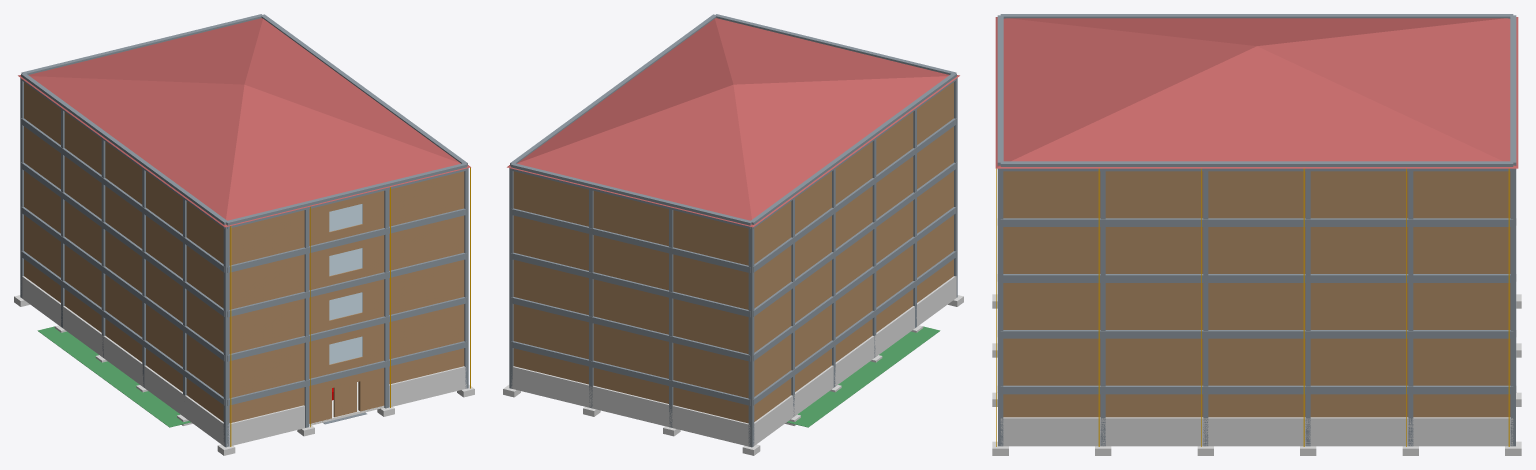
The model's file is generated_building_39.glb.
3 views of the same model, side by side, from view 1: azimuth 30°, elevation 25°; view 2: azimuth 150°, elevation 25°; view 3: azimuth 270°, elevation 25° (orthographic). The views are drawn at different scales.
Visible parts, largest first — view 1: architectural, structural, landscape, windows, electrical, doors; view 2: architectural, structural, landscape; view 3: architectural, structural, landscape, electrical.
Part boxes in pixels (x1,y1,x2,y2): architectural: (18, 18, 470, 423); structural: (14, 14, 474, 455); landscape: (21, 276, 466, 446); windows: (329, 204, 362, 364); electrical: (230, 167, 470, 446); doors: (333, 382, 356, 417); architectural: (507, 18, 959, 423); structural: (503, 14, 963, 455); landscape: (511, 276, 956, 446); architectural: (995, 17, 1518, 417); structural: (992, 14, 1521, 455); landscape: (1000, 417, 1513, 446); electrical: (996, 168, 1509, 446).
Size of the model in its own units: 18.9 by 17.9 by 25.8.
